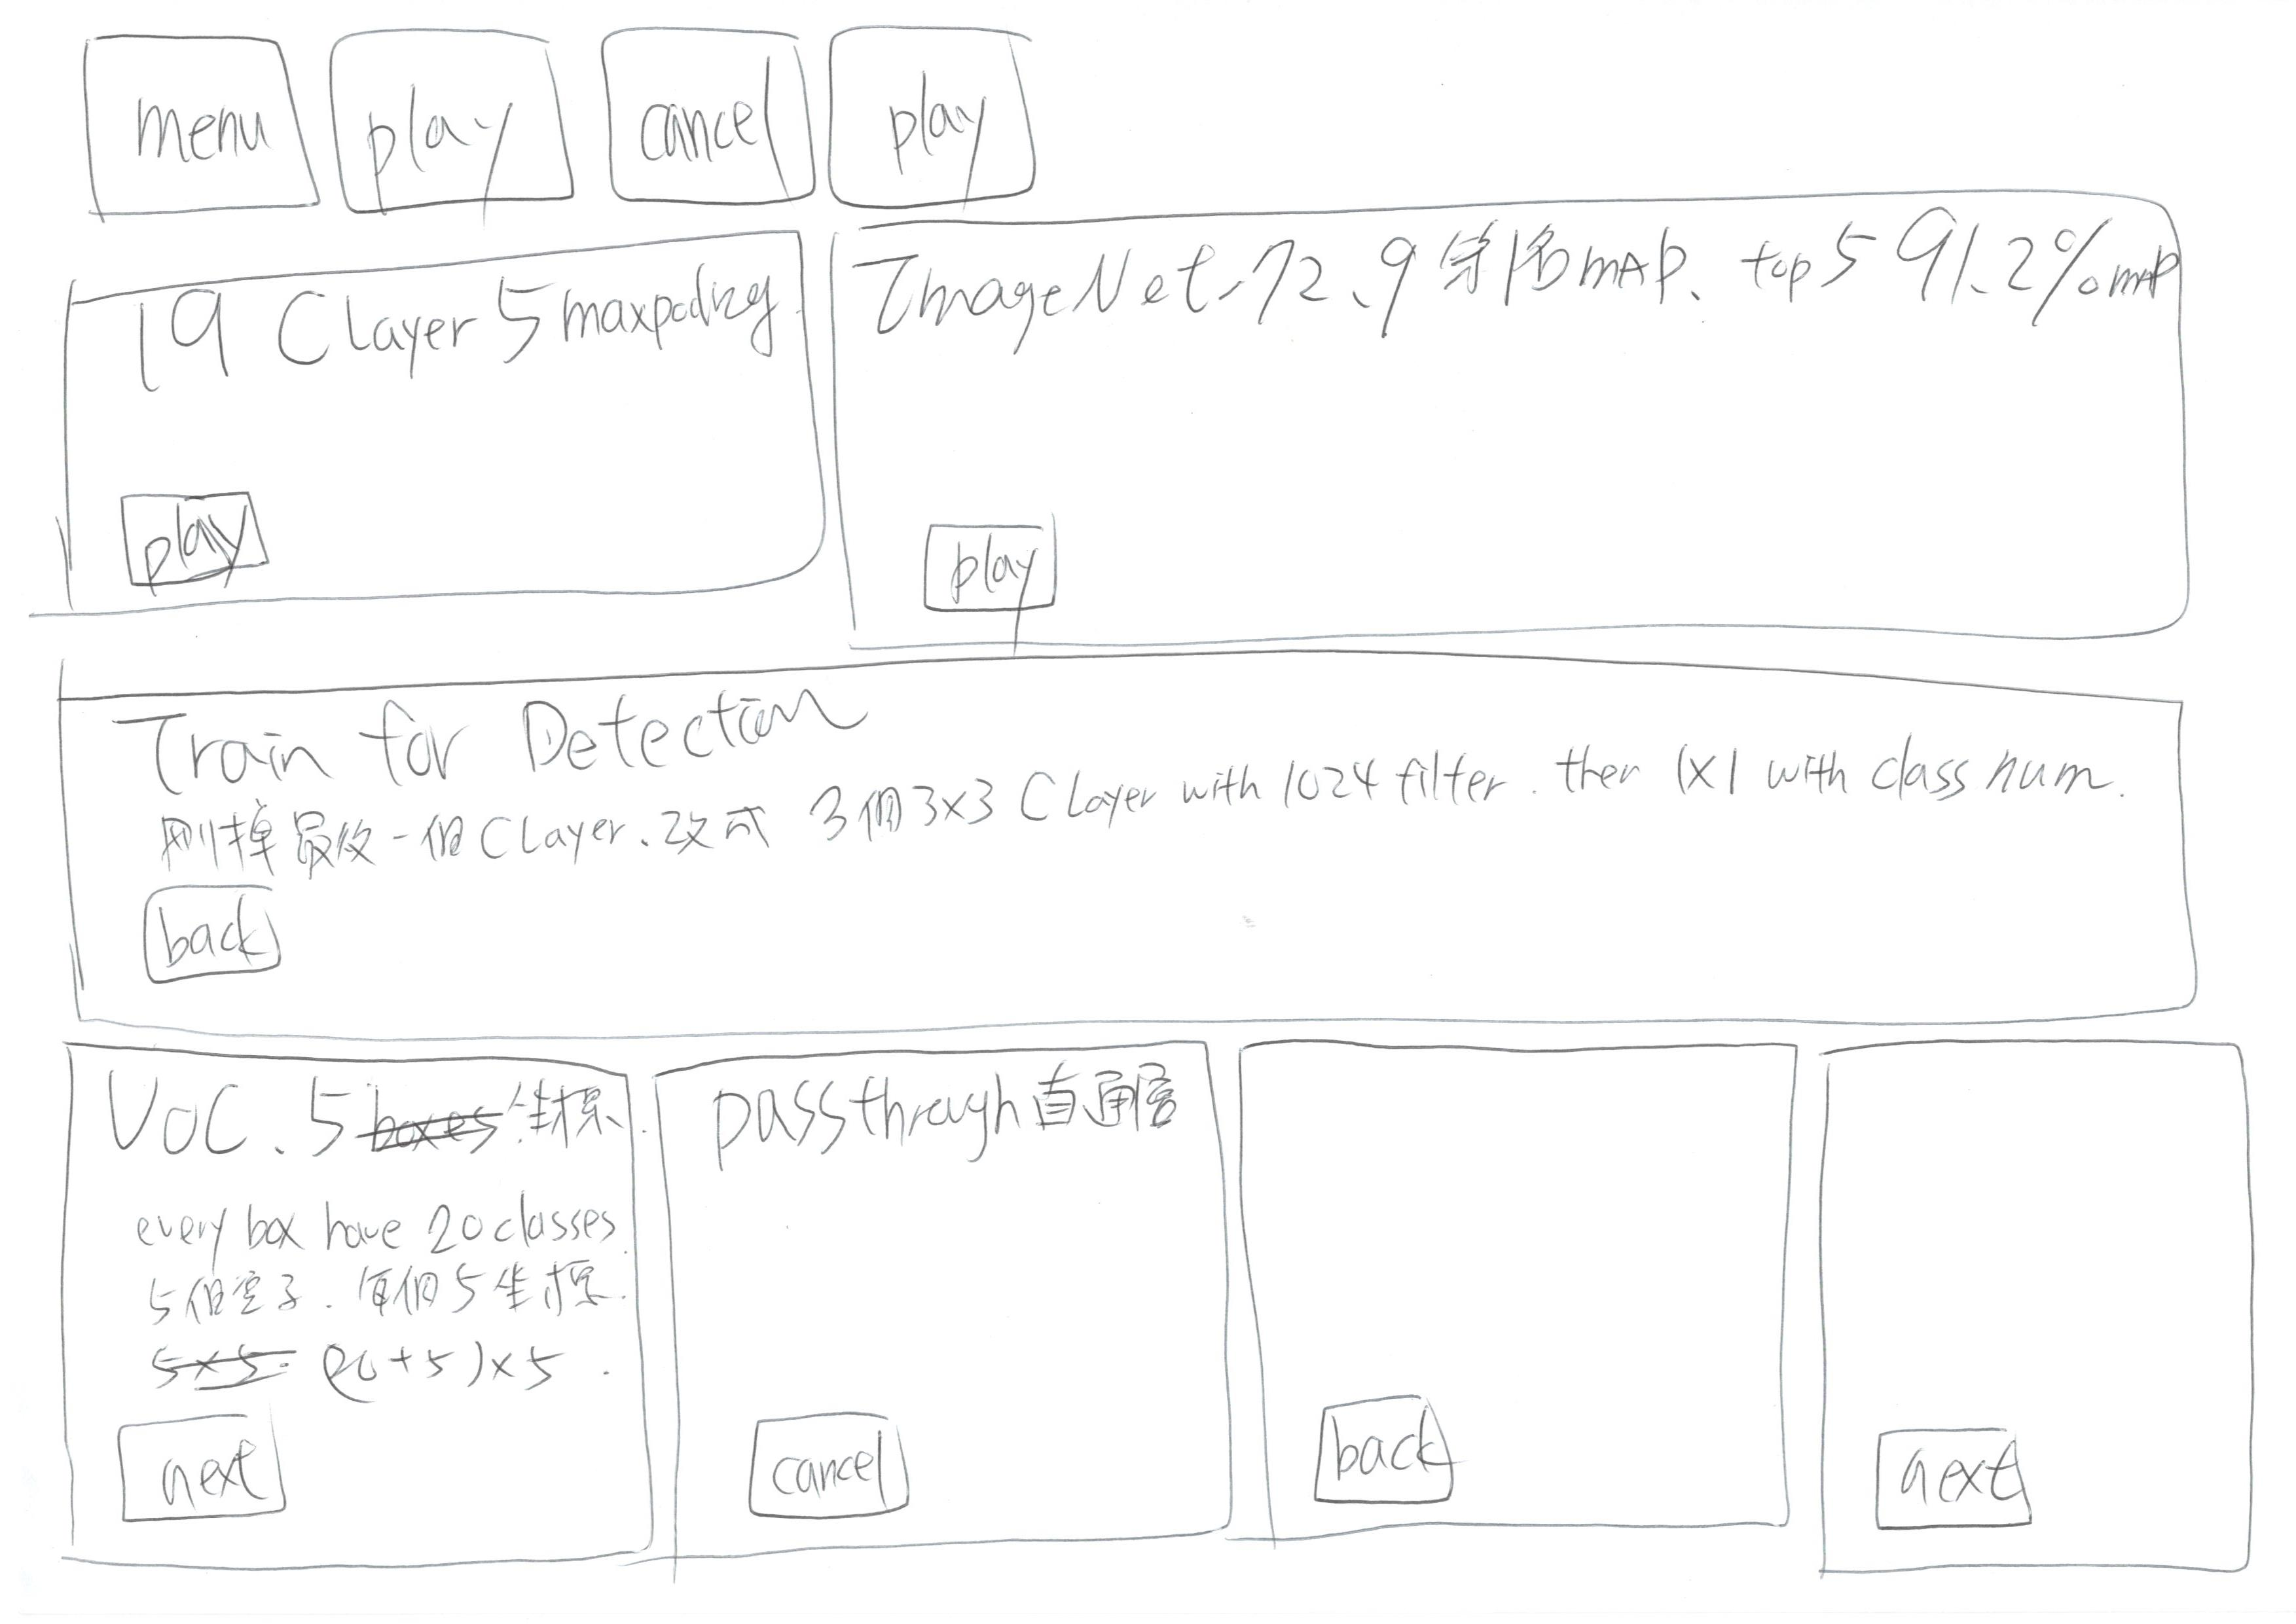back: (121, 872, 341, 1032), (1290, 1369, 1487, 1526)
cancel: (721, 1385, 962, 1526)
double: (823, 179, 2264, 663), (25, 204, 844, 649)
menu: (28, 0, 334, 239)
next: (105, 1390, 323, 1540), (1856, 1410, 2062, 1541)
play: (114, 1176, 615, 1396), (299, 0, 594, 220), (809, 0, 1069, 213), (900, 483, 1094, 638), (107, 462, 294, 608)
quadruple: (32, 1018, 689, 1620), (638, 1021, 1241, 1624), (1206, 1004, 1809, 1606), (1788, 1021, 2296, 1624)
row: (7, 997, 2296, 1624), (7, 176, 2296, 691), (7, 642, 2296, 1046), (7, 0, 2296, 257)
single: (18, 633, 2296, 1067)
small-title: (870, 227, 2173, 336), (130, 698, 877, 791), (109, 281, 754, 373), (109, 1076, 626, 1179), (710, 1074, 1178, 1165)
text: (151, 750, 2096, 842)
